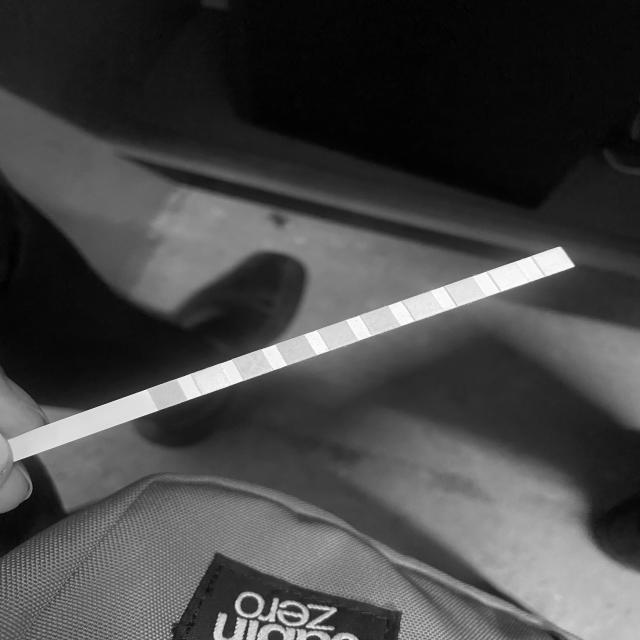Bilirubin: (198, 372, 224, 387)
Blood: (325, 328, 350, 342)
Glucose: (155, 386, 180, 403)
Ketone: (240, 357, 265, 371)
Leukocytes: (541, 254, 566, 268)
Nitrite: (495, 269, 520, 282)
Protein: (410, 298, 436, 312)
SpGravity: (284, 342, 308, 357)
Urobilinogen: (453, 284, 478, 298)
background: (0, 0, 640, 640)
pH: (367, 314, 392, 326)
strip: (11, 248, 573, 457)
